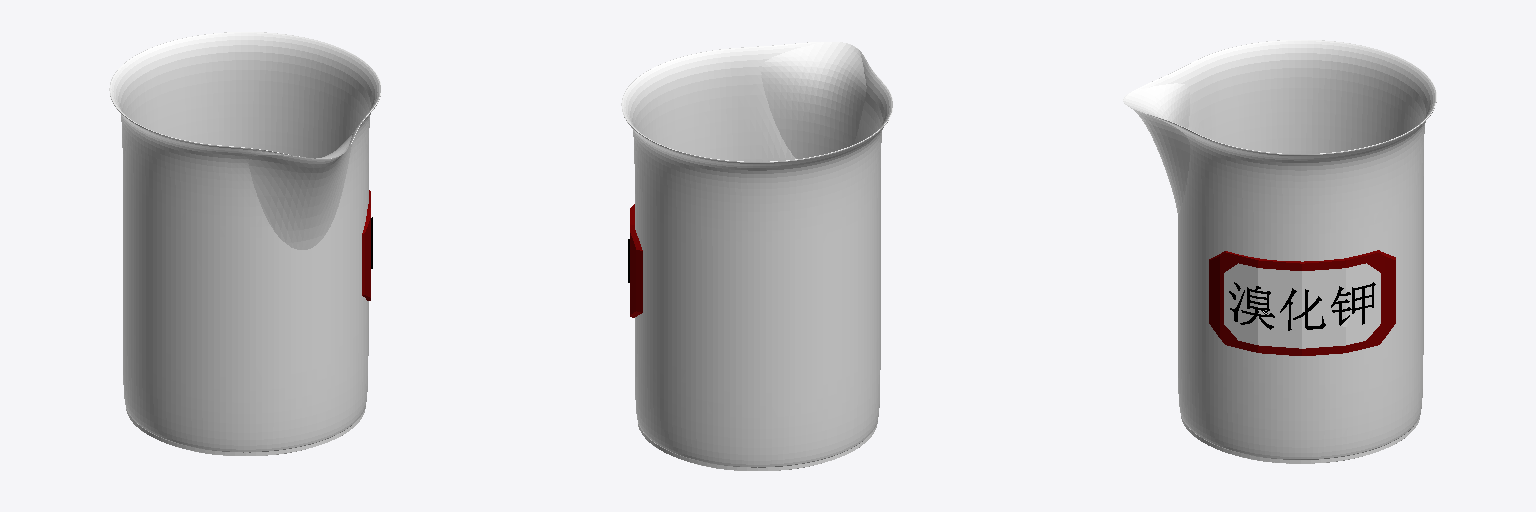
The model's file is KBr-beaker.obj.
3 views of the same model, side by side, from view 1: azimuth 30°, elevation 25°; view 2: azimuth 150°, elevation 25°; view 3: azimuth 270°, elevation 25° (orthographic).
Parts seen in each view (by area): view 1: beaker, Line004; view 2: beaker, Line004; view 3: beaker, Line008, Line004, Text004.
Part boxes in pixels (x1,y1,x2,y2): beaker: (109, 32, 380, 455); Line004: (362, 190, 370, 300); beaker: (621, 42, 892, 470); Line004: (630, 204, 642, 317); beaker: (1123, 40, 1436, 463); Line008: (1224, 263, 1380, 348); Line004: (1209, 250, 1395, 355); Text004: (1229, 282, 1375, 330).
Bounding box in the file's own units: 21.68 × 27.98 × 25.03.